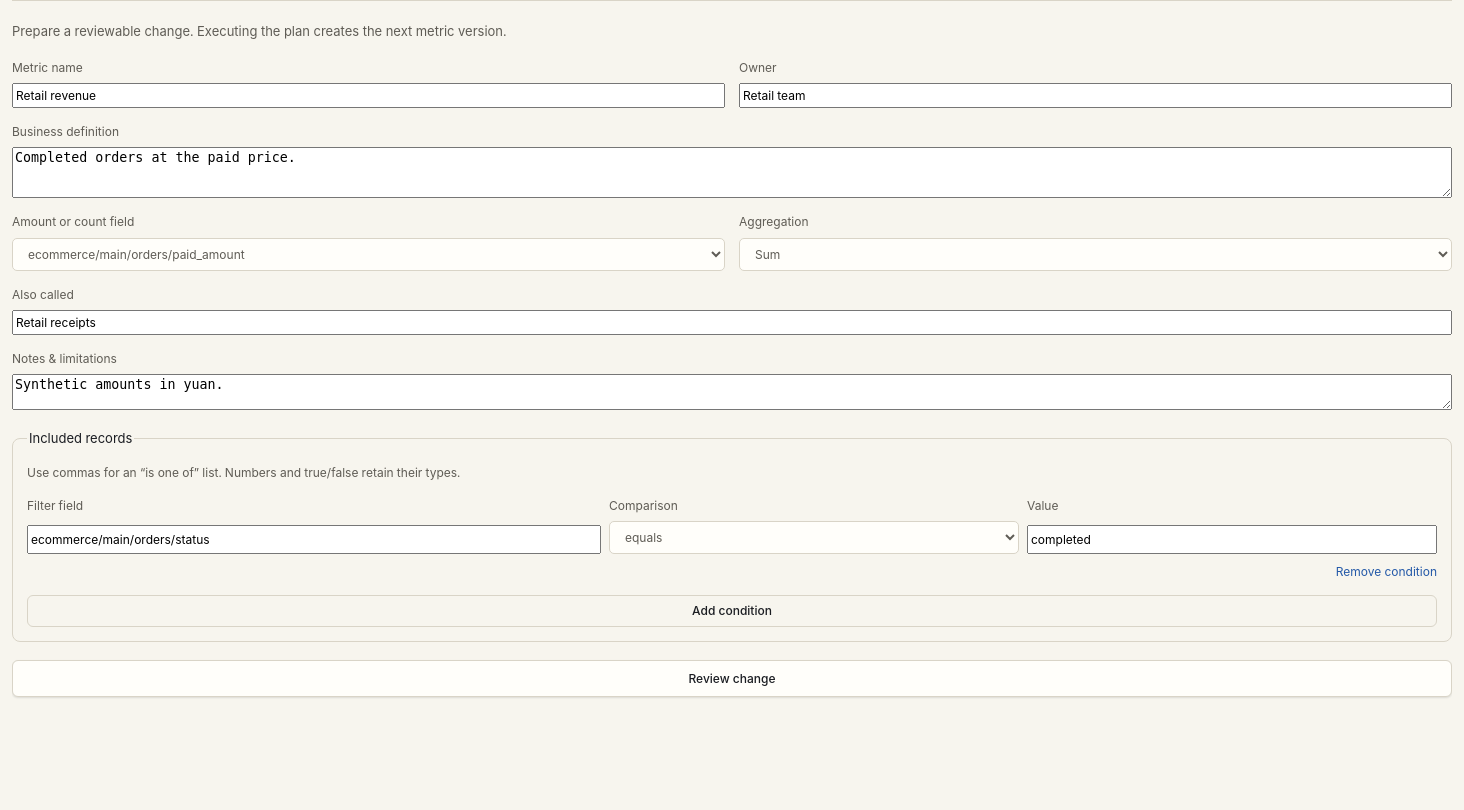
Test case: shows prepare failures and keeps the edited form available for retry
Step 1. Click the button "Review change" → (732, 678), box [12,660,1452,697]
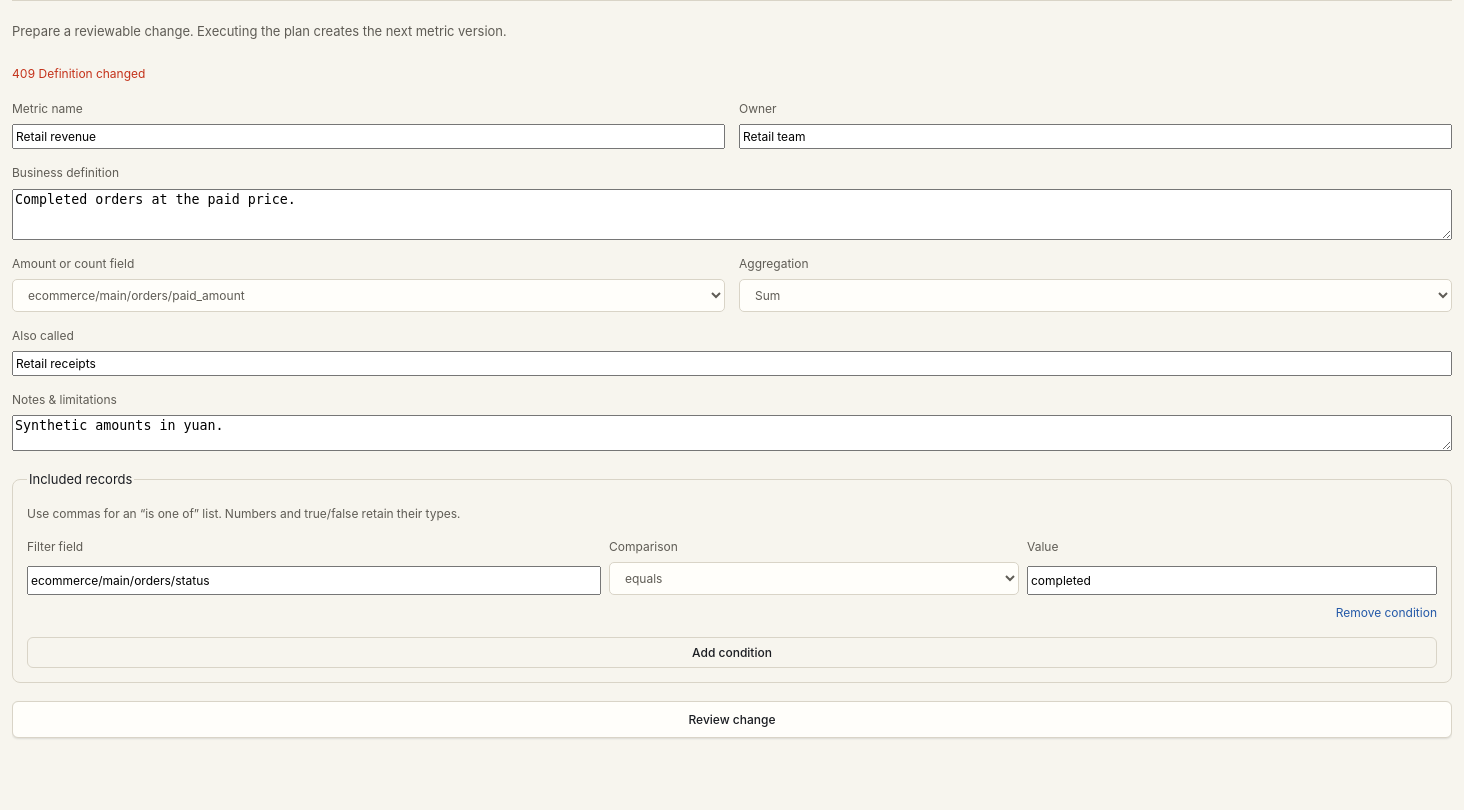
Expected: the field labelled "Metric name" holds "Retail revenue", [12,124,725,149]
Result: the message shows "Definition changed" at [12,66,145,81]
